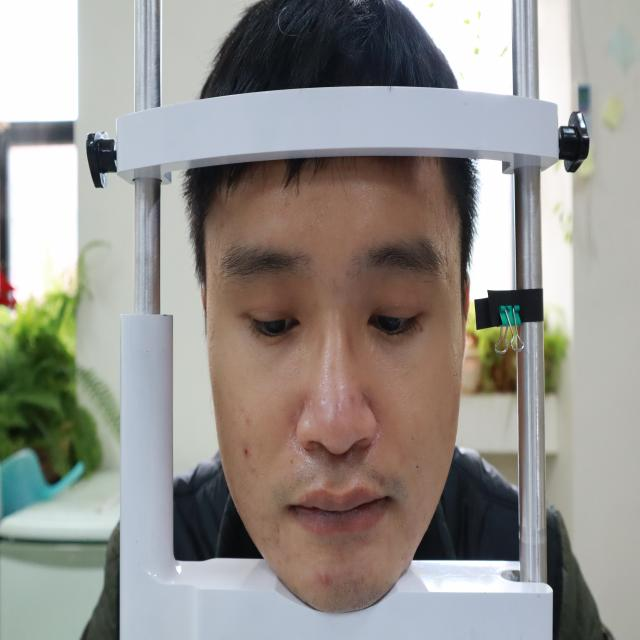eye: (360, 292, 430, 350), (242, 301, 307, 352)
gaze: (376, 308, 401, 338), (263, 313, 288, 337)
